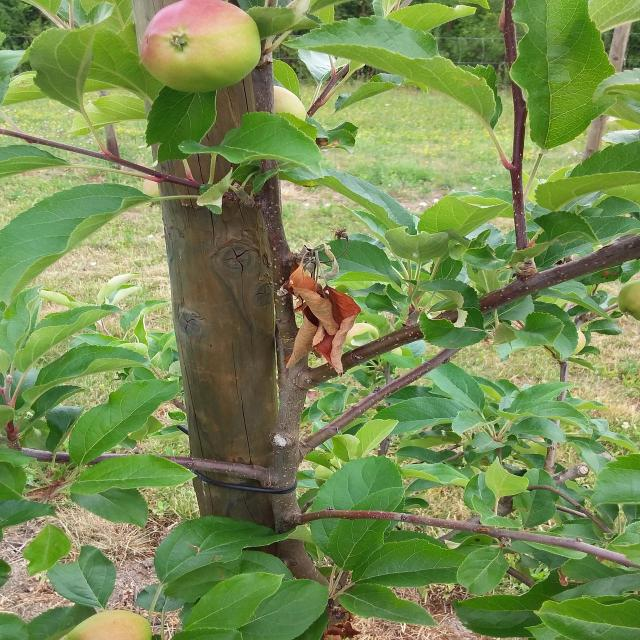-FireBlight-: (276, 251, 351, 375)
